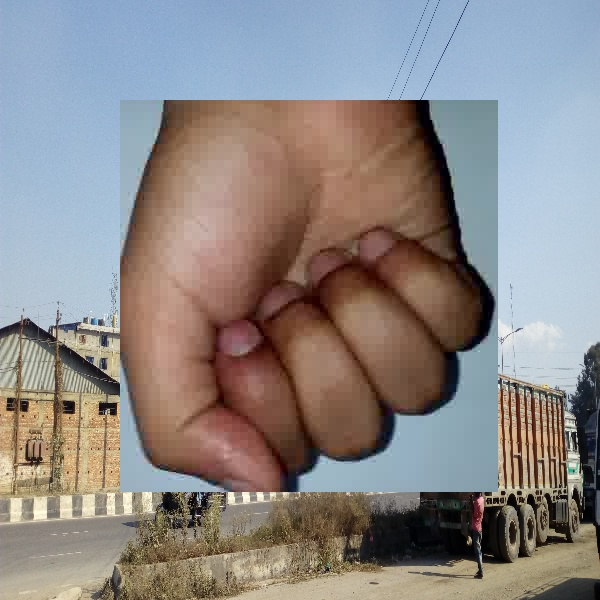A: (120, 100, 498, 492)
